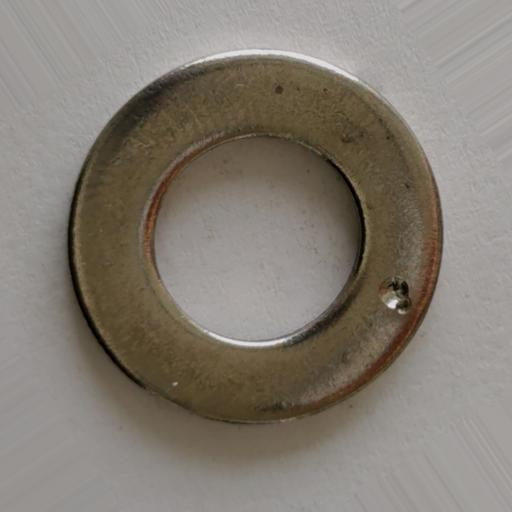circular_cavity: (376, 274, 413, 312)
